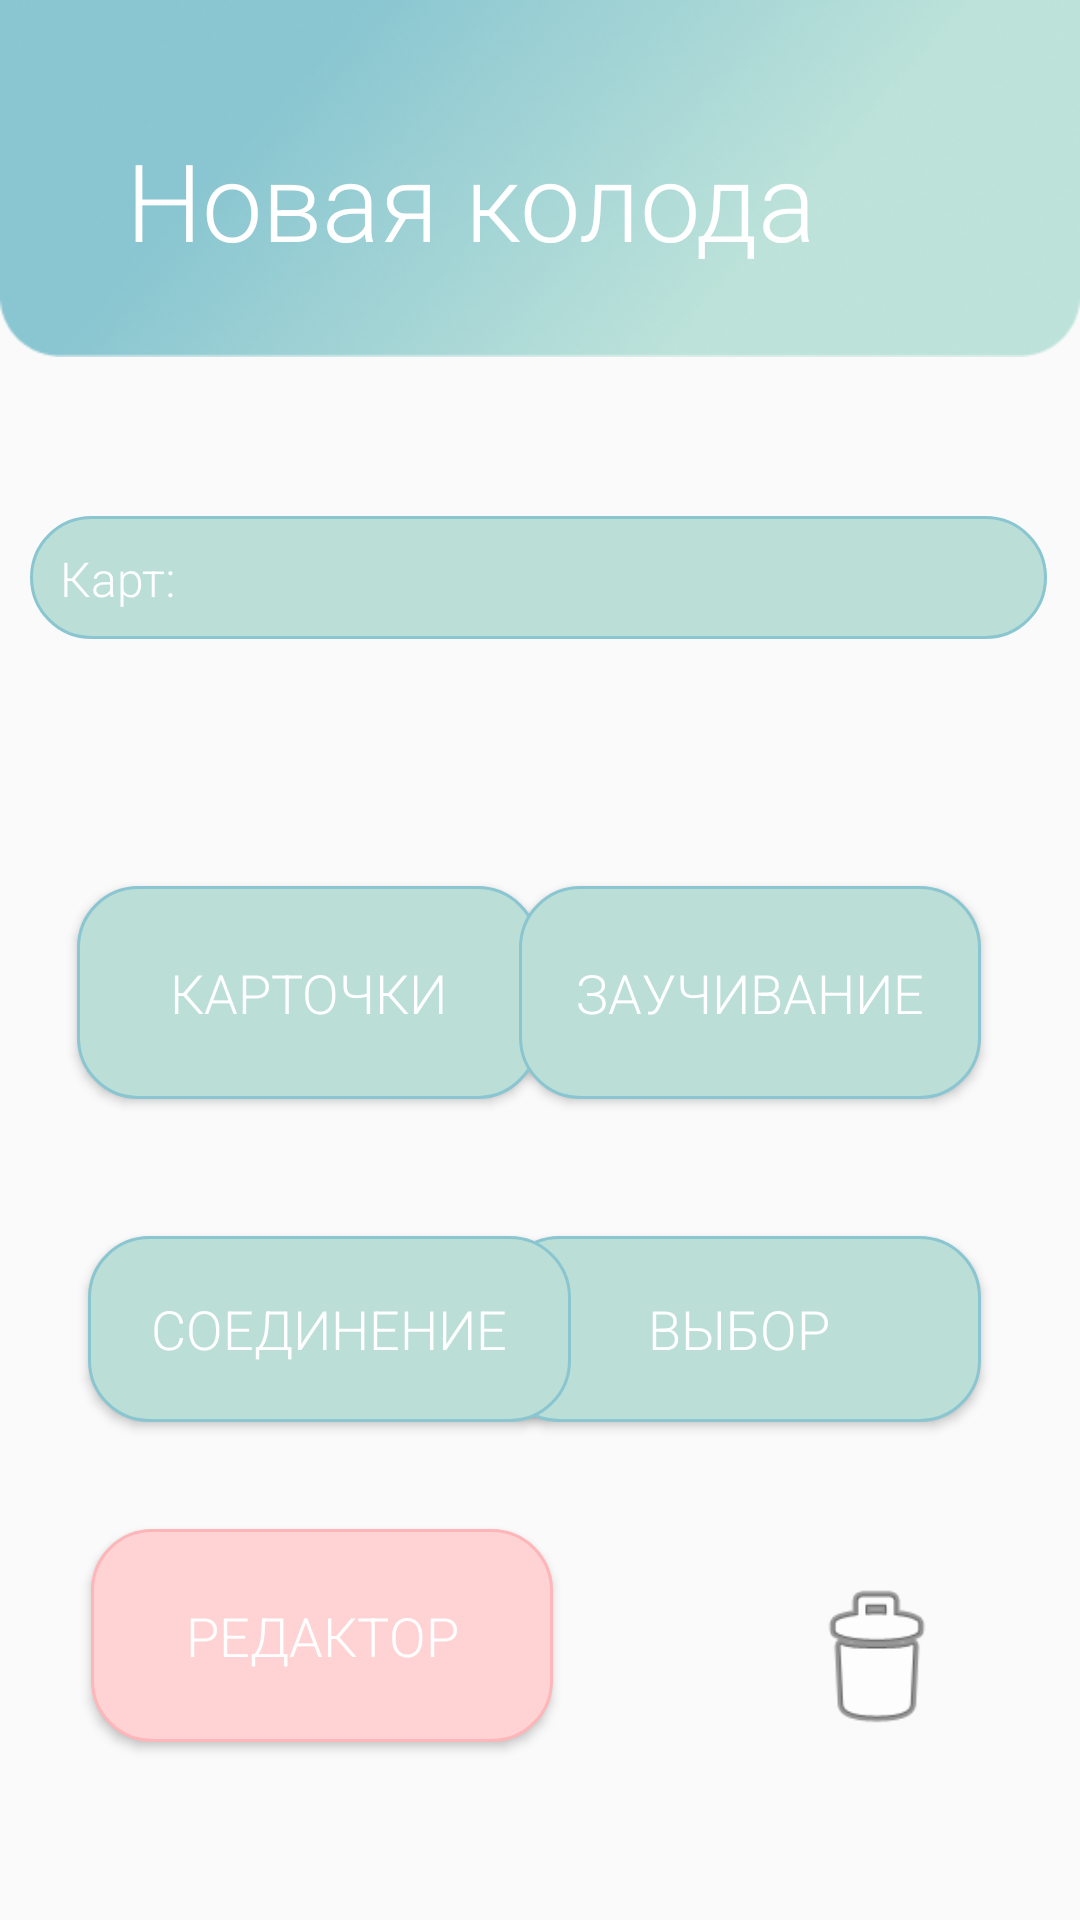

Icon bounding boxes for this 1080 x 1920 phone screenshot, format region(x1, y1, x2, y2):
delete: region(829, 1591, 925, 1722)
